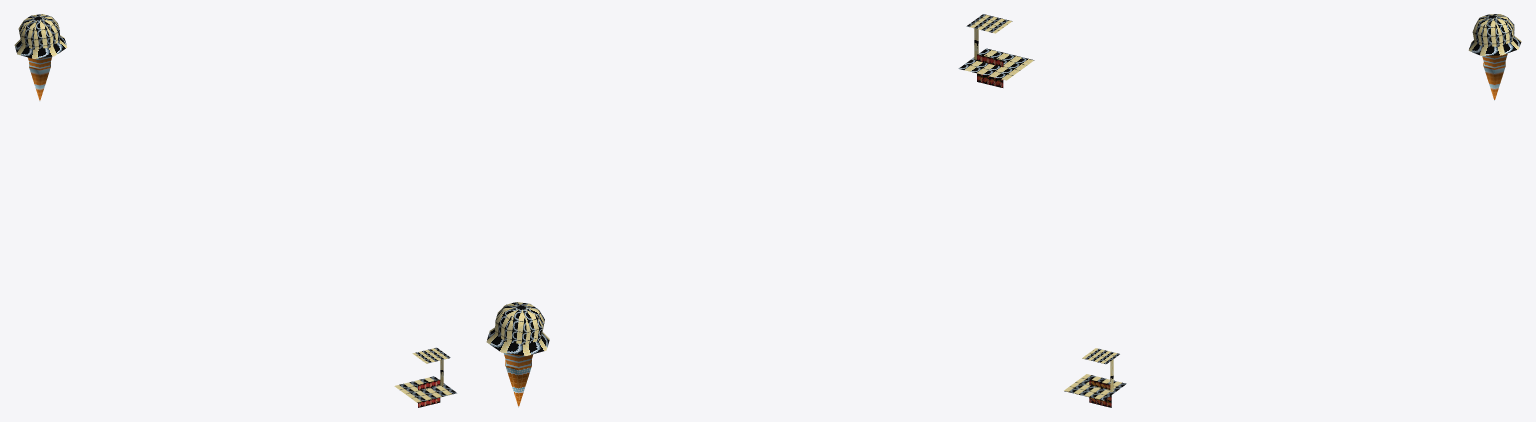
File: 1134item3399.gltf
3 views of the same model, side by side, from view 1: azimuth 30°, elevation 25°; view 2: azimuth 150°, elevation 25°; view 3: azimuth 330°, elevation 25° (orthographic). The views are drawn at different scales.
Visible parts, largest first — view 1: 1134item3399; view 2: 1134item3399; view 3: 1134item3399.
Boxes of the visible parts, x1,y1,x2,y2 form: 1134item3399: (14, 14, 456, 407); 1134item3399: (486, 14, 1034, 407); 1134item3399: (1064, 14, 1521, 407).
Size of the model in its own units: 0.4465 by 0.8599 by 6.39.
4 materials, 4 textured.
